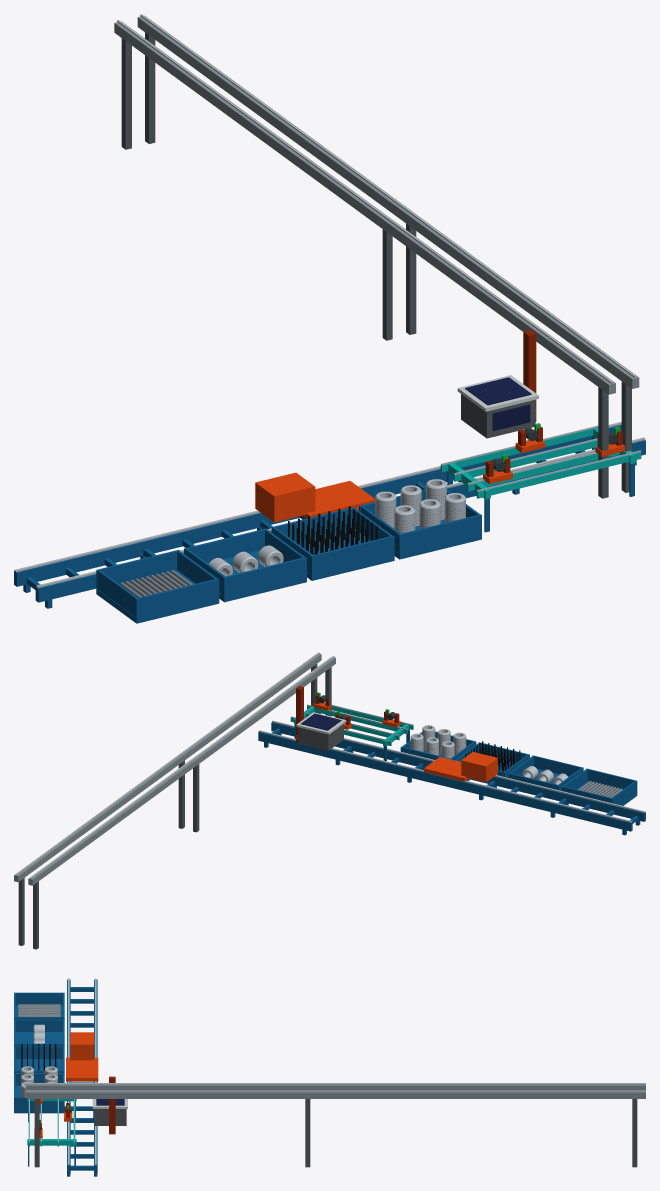
The model's file is bearing_sorting_system.dae.
3 views of the same model, one above another, from view 1: azimuth 30°, elevation 25°; view 2: azimuth 150°, elevation 25°; view 3: azimuth 270°, elevation 25° (orthographic). The views are drawn at different scales.
Visible parts, largest first — view 1: bearing_sorting_system; view 2: bearing_sorting_system; view 3: bearing_sorting_system.
Boxes of the visible parts, left/top/right/bottom form: bearing_sorting_system: left=14, top=14, right=645, bottom=623; bearing_sorting_system: left=14, top=652, right=645, bottom=949; bearing_sorting_system: left=14, top=978, right=645, bottom=1176.
Size of the model in its own units: 15.6 by 22.42 by 3.02.
